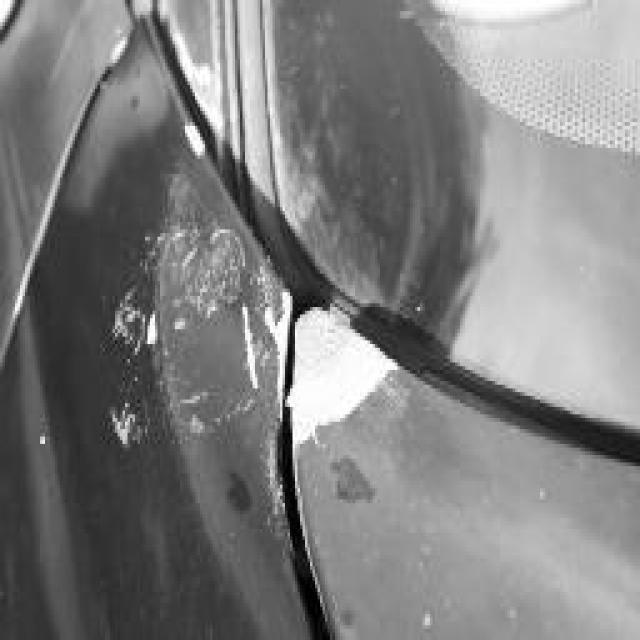Bumper: (52, 44, 462, 640)
